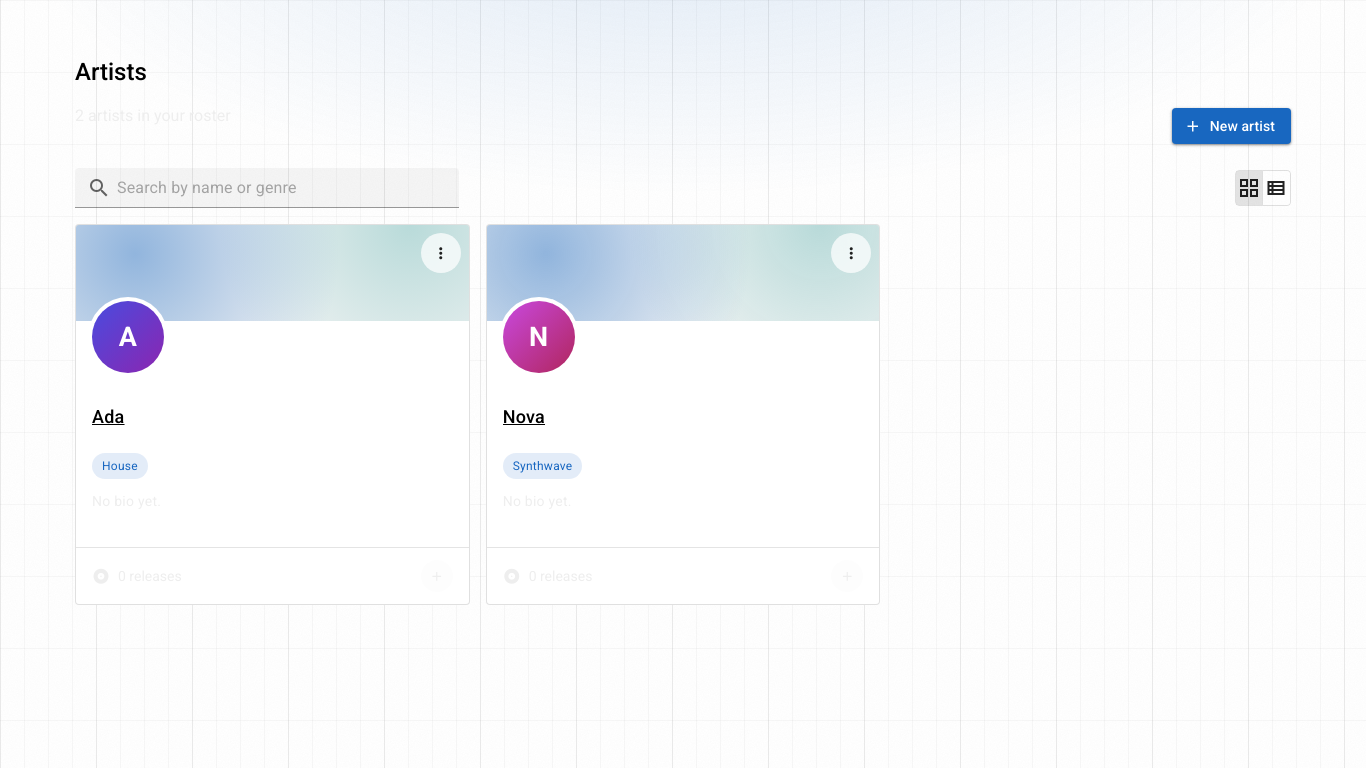
Test: ArtistsView › roster › filters by name or genre
The image size is (1366, 768).
Step 1. Type "synth" into the field with placeholder "Search by name or genre" → (279, 188), box x1=111 y1=168 x2=447 y2=208
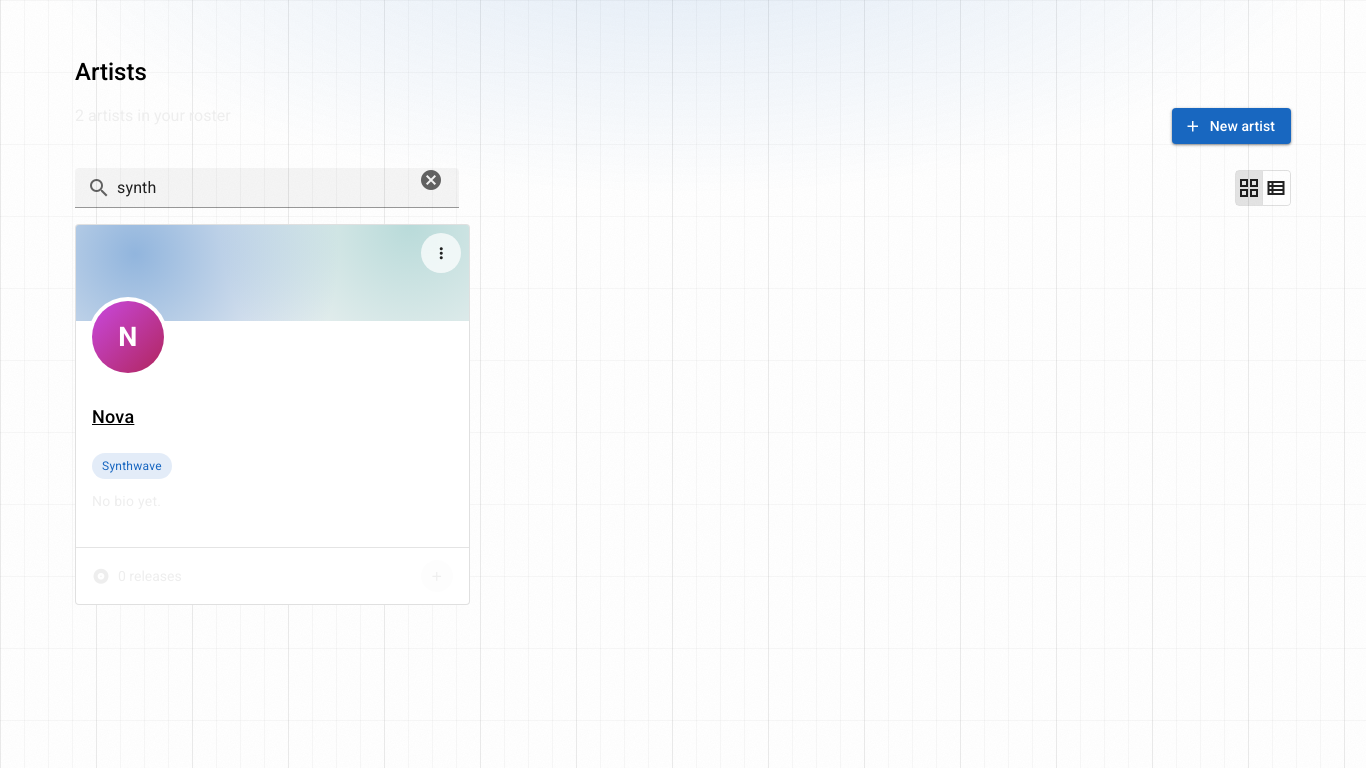
Expected: the link "Nova" is shown, x1=92 y1=406 x2=134 y2=427
Result: the number of "ArtistCard" components is 1 at x1=75 y1=224 x2=470 y2=605
